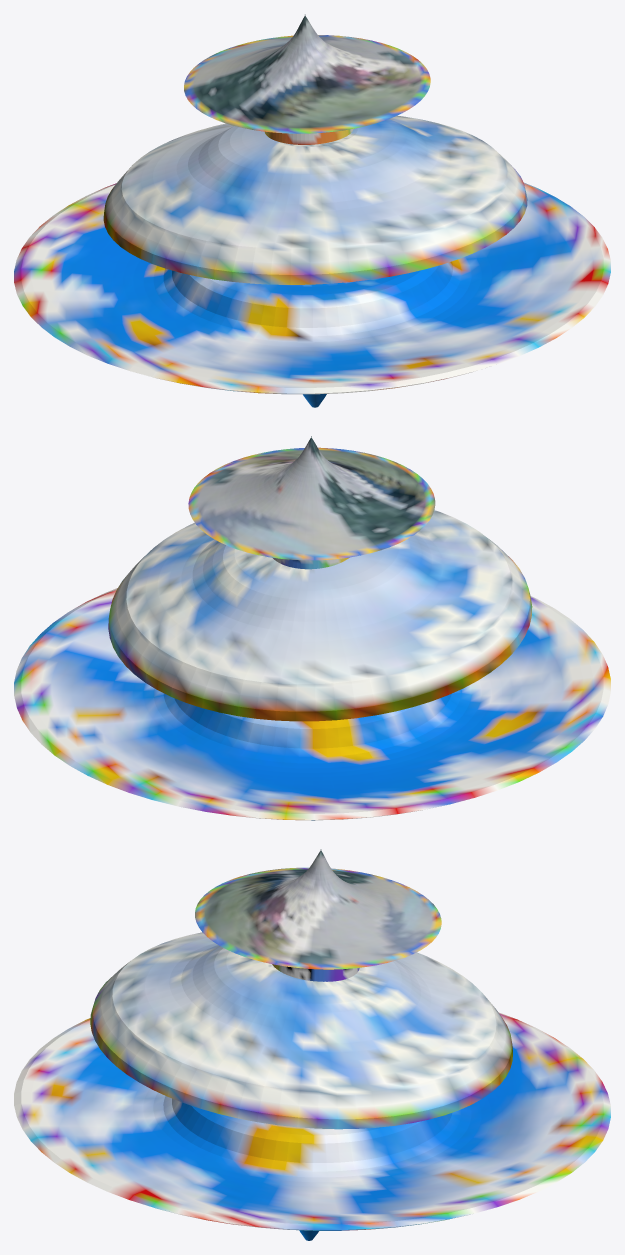
The model's file is secondsalinatest.glb.
3 renders of one model, top to bottom at view 1: azimuth 30°, elevation 25°; view 2: azimuth 150°, elevation 25°; view 3: azimuth 270°, elevation 25°, orthographic.
Parts seen in each view (by area): view 1: Lathe 4, Lathe 3, Lathe, Lathe.001; view 2: Lathe 4, Lathe 3, Lathe, Lathe.001; view 3: Lathe 4, Lathe 3, Lathe, Lathe.001.
Boxes of the visible parts, box(x1,y1,x2,y2) form: Lathe 4: box(14, 182, 610, 407); Lathe 3: box(103, 115, 527, 284); Lathe: box(184, 14, 430, 133); Lathe.001: box(264, 128, 353, 144); Lathe 4: box(14, 588, 610, 820); Lathe 3: box(108, 510, 532, 721); Lathe: box(188, 436, 435, 560); Lathe.001: box(272, 557, 349, 569); Lathe 4: box(14, 1012, 610, 1240); Lathe 3: box(90, 932, 512, 1129); Lathe: box(195, 849, 441, 969); Lathe.001: box(272, 964, 359, 981).
Bounding box in the file's own units: 3.61 × 2.58 × 3.6.
